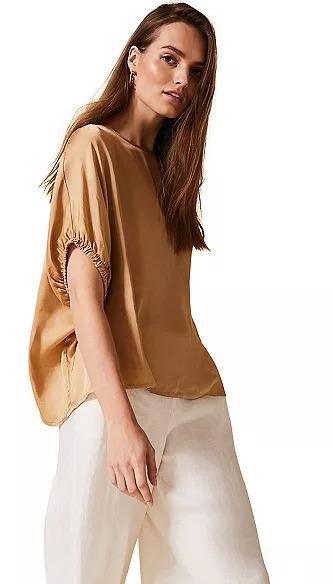C_short blouse: (31, 121, 229, 426)
